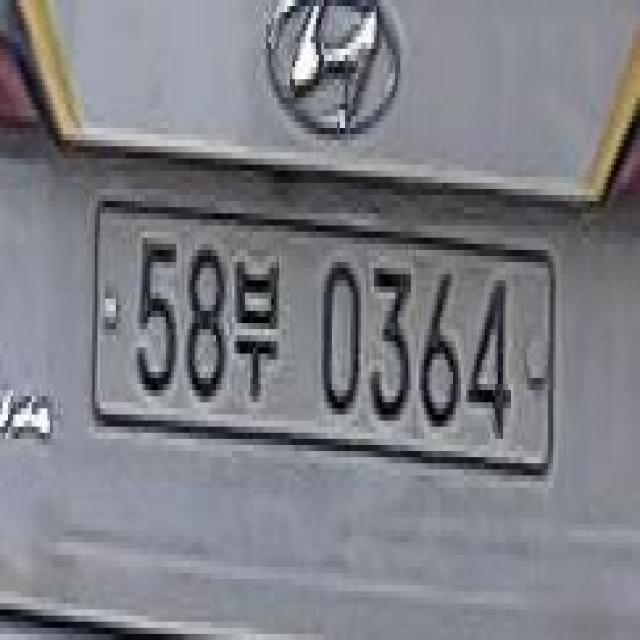0: (318, 246, 366, 419)
3: (370, 245, 416, 438)
4: (465, 263, 513, 441)
5: (128, 218, 180, 392)
6: (422, 258, 462, 444)
8: (184, 242, 228, 402)
bu: (232, 242, 284, 417)
license_plate: (87, 183, 563, 517)
